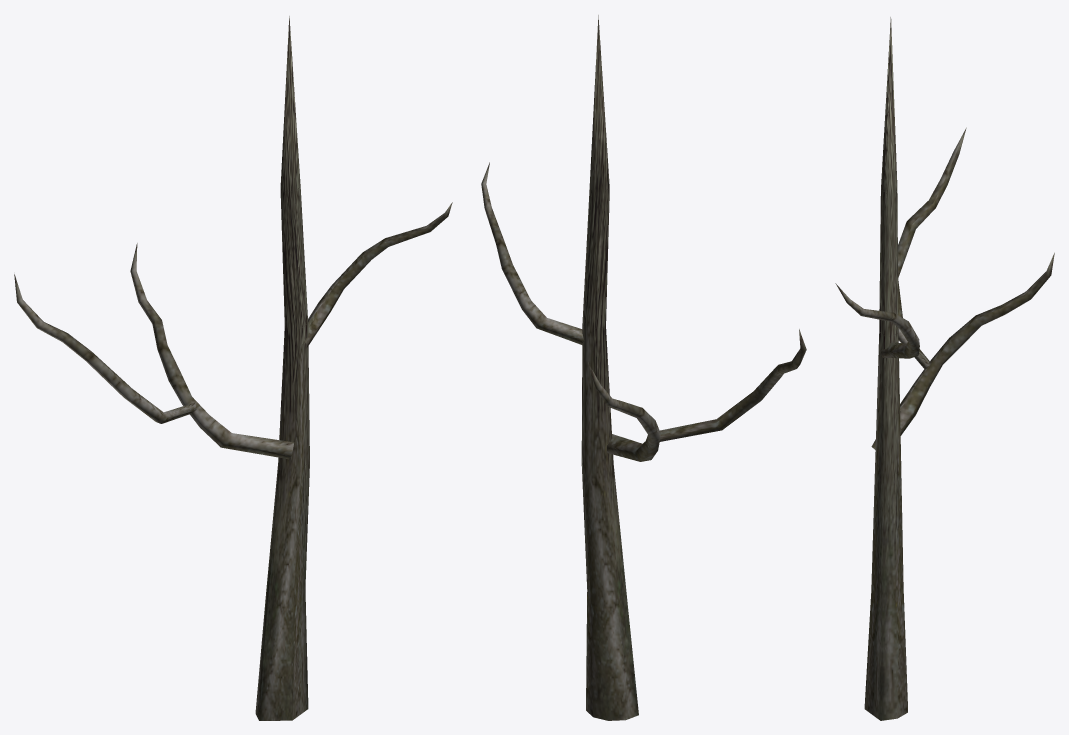
File: tree_k012.FBX
3 views of the same model, side by side, from view 1: azimuth 30°, elevation 25°; view 2: azimuth 150°, elevation 25°; view 3: azimuth 270°, elevation 25° (orthographic).
Visible parts, largest first — view 1: tree_k012; view 2: tree_k012; view 3: tree_k012.
Part boxes in pixels (bbox=[...]): tree_k012: bbox=[14, 16, 452, 720]; tree_k012: bbox=[481, 15, 806, 720]; tree_k012: bbox=[835, 17, 1054, 720].
Bounding box in the file's own units: 7.03 × 12.38 × 3.52.
1 material, 1 textured.
